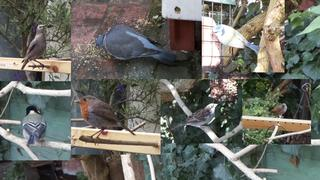blue tit: (211, 24, 261, 53)
dunnock: (266, 103, 287, 118)
great tit: (21, 105, 47, 148)
robin: (74, 95, 137, 147)
sparrow: (171, 103, 218, 131)
starling: (21, 24, 47, 70)
wood pigeon: (95, 24, 178, 66)
